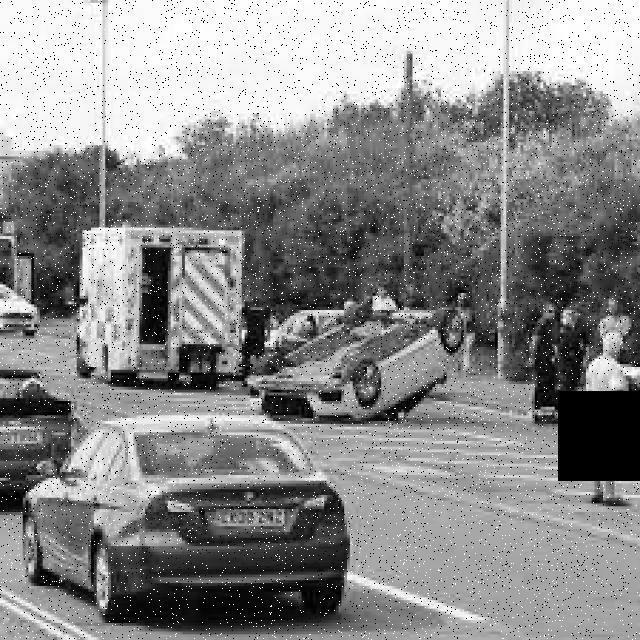accident: (239, 294, 478, 428)
vehicle: (18, 414, 357, 622), (72, 225, 242, 389), (1, 362, 95, 502), (0, 274, 41, 343)
